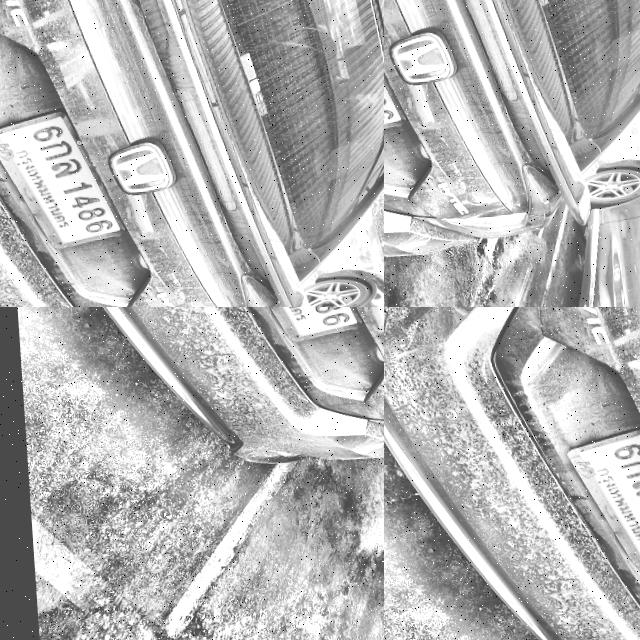license-plate: (279, 0, 384, 116), (560, 426, 640, 575)
